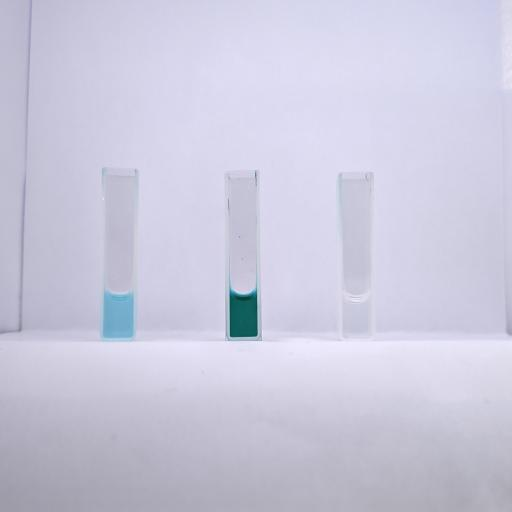cuvette: (223, 168, 265, 342), (99, 165, 140, 342), (336, 170, 376, 341)
liquid: (104, 290, 134, 337), (229, 290, 258, 337), (344, 294, 370, 338)
